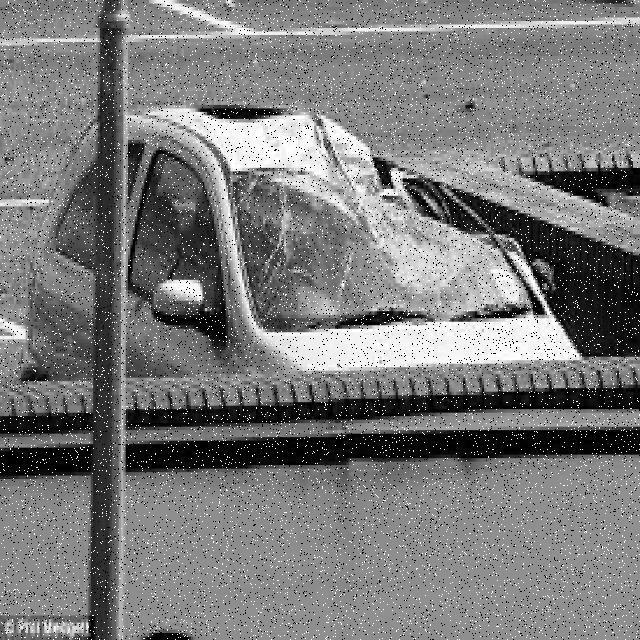Front-windscreen-damage: (196, 175, 570, 353)
roof-dent: (135, 85, 370, 204)
